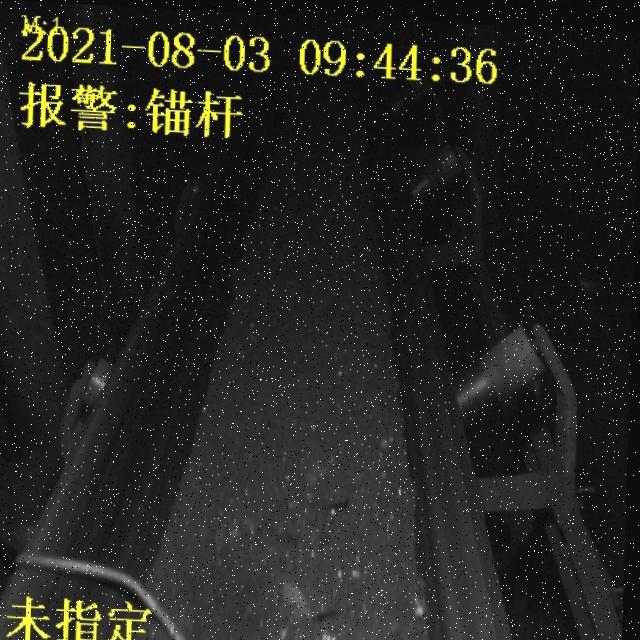bolt: (18, 548, 213, 640)
large_sized_coal: (279, 568, 340, 620)
